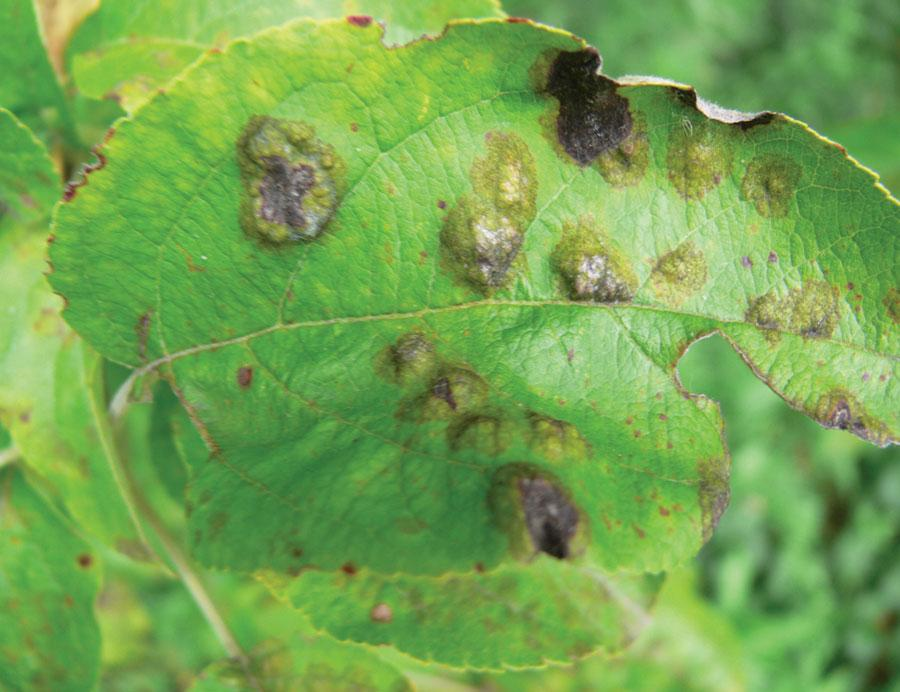Apple Scab Leaf: (39, 15, 900, 667)
